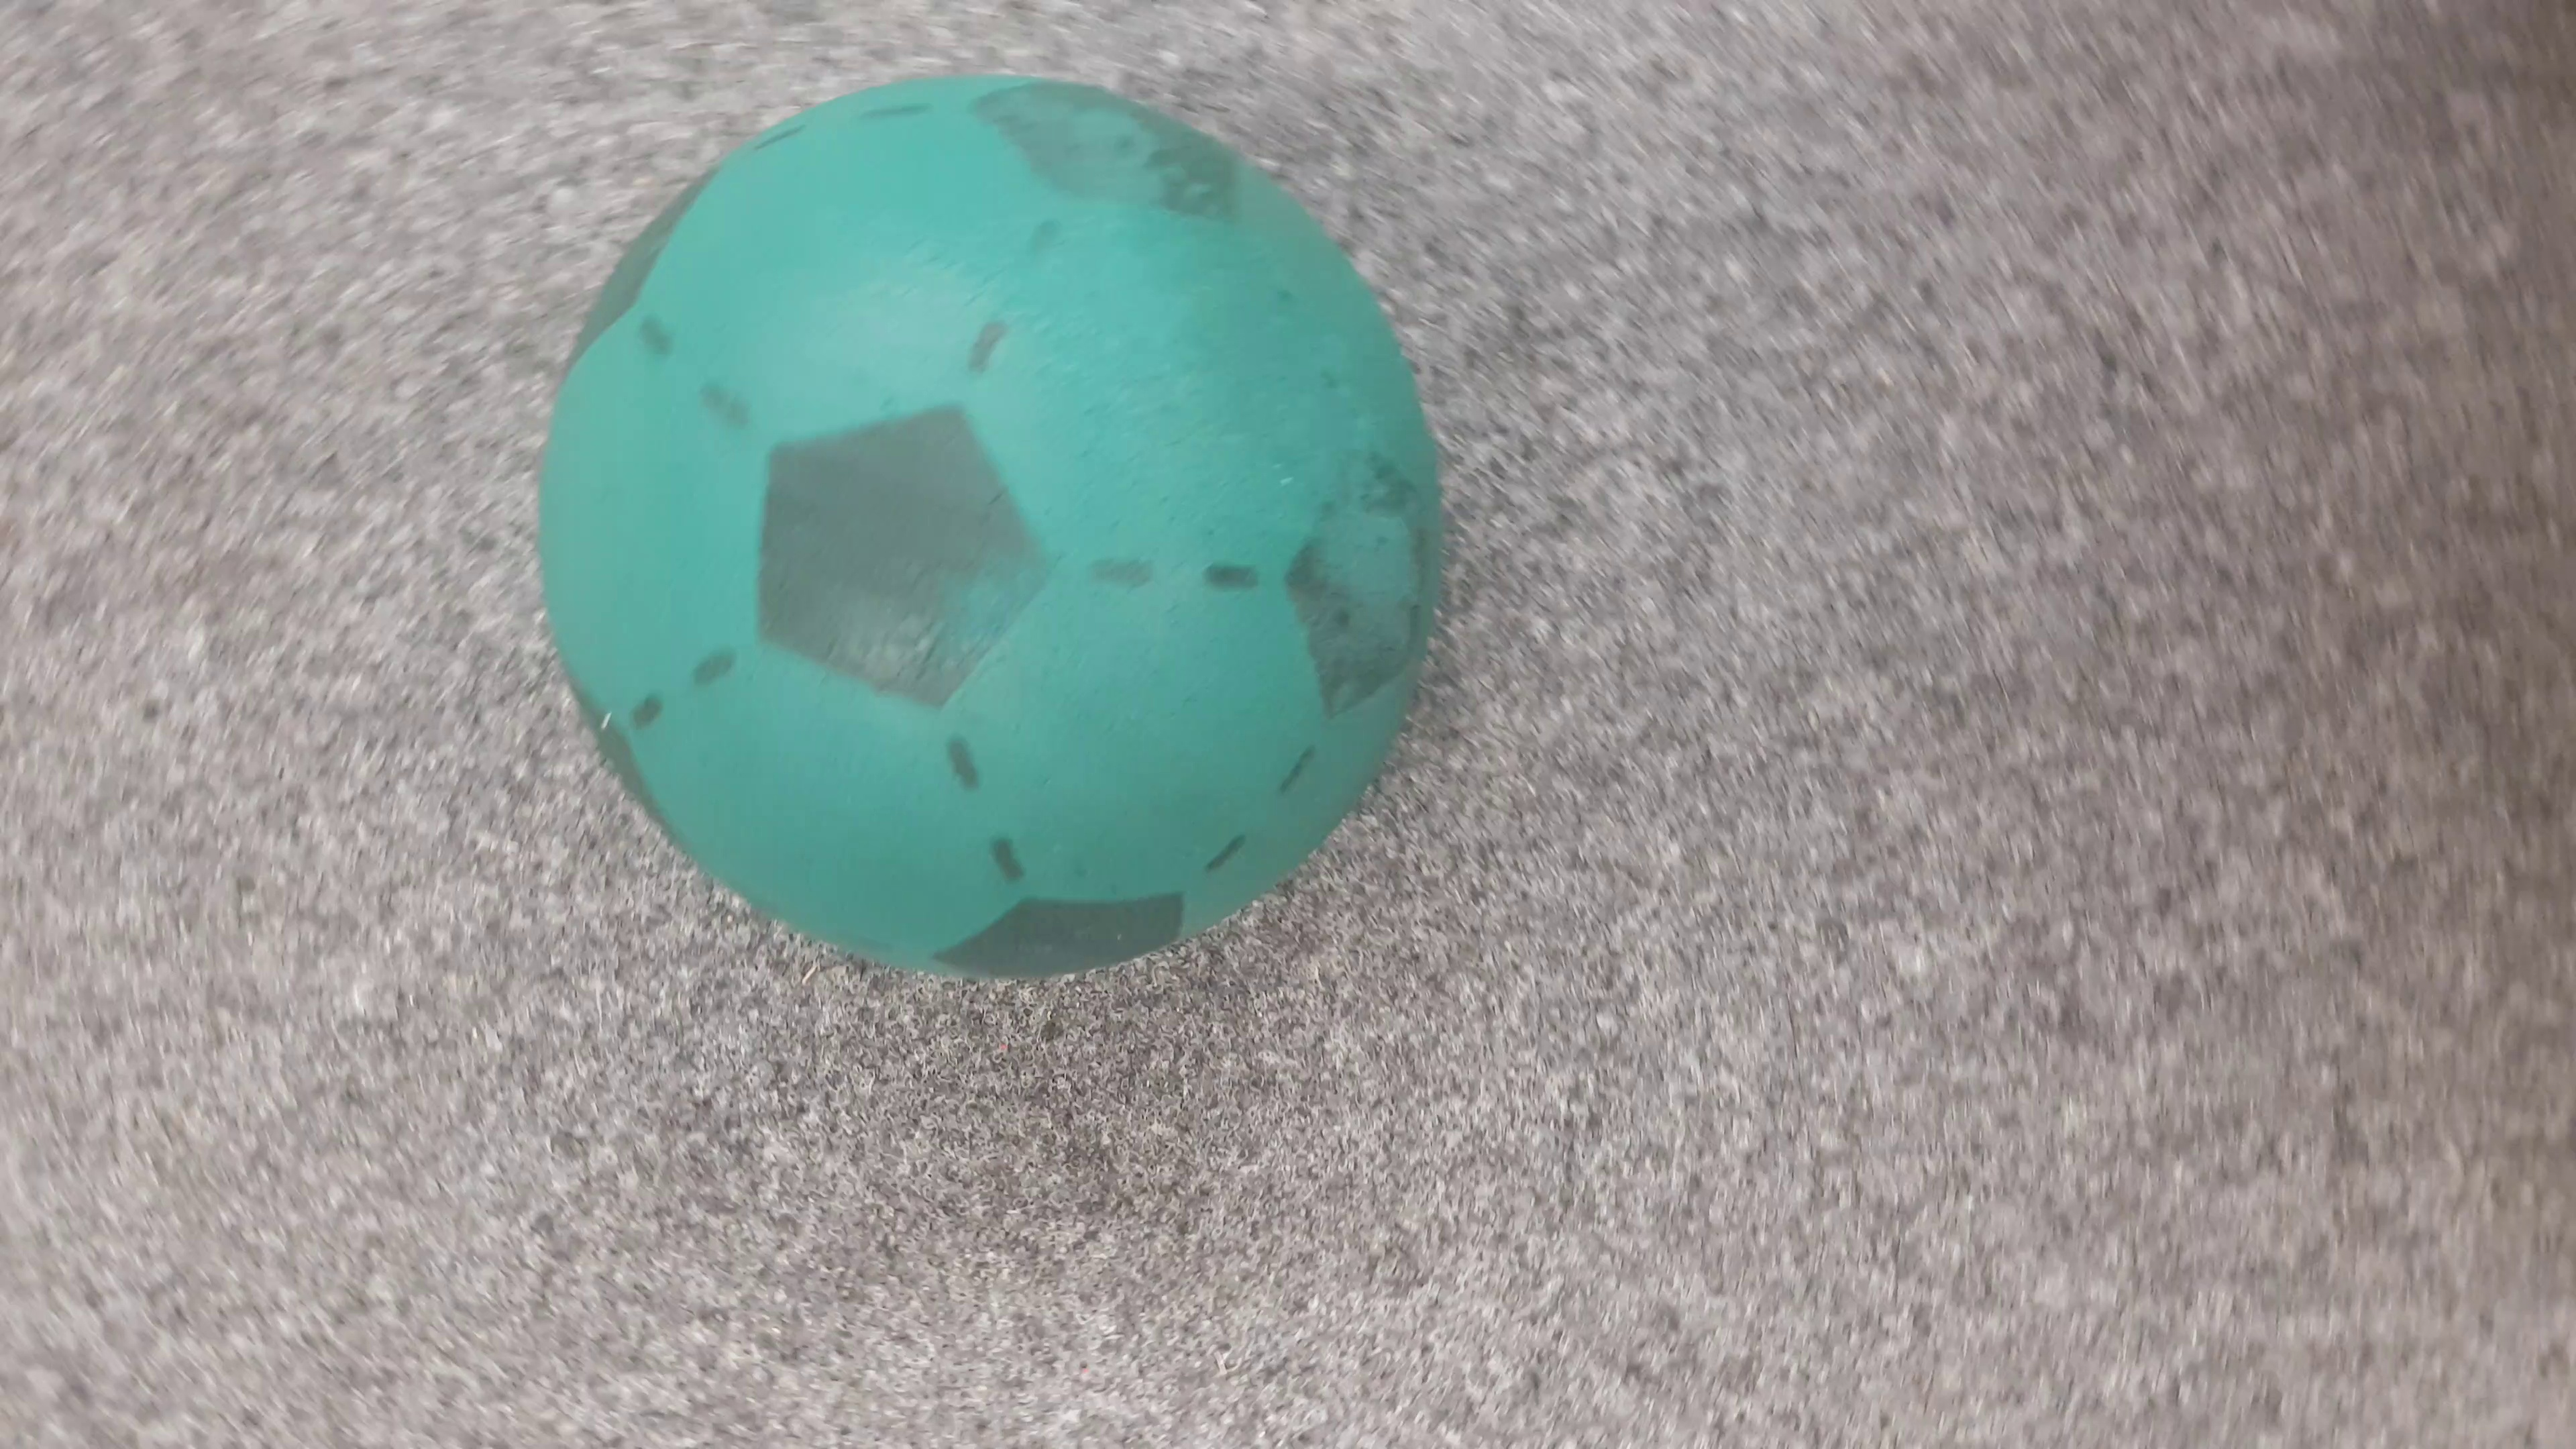kick: (522, 74, 1451, 959)
